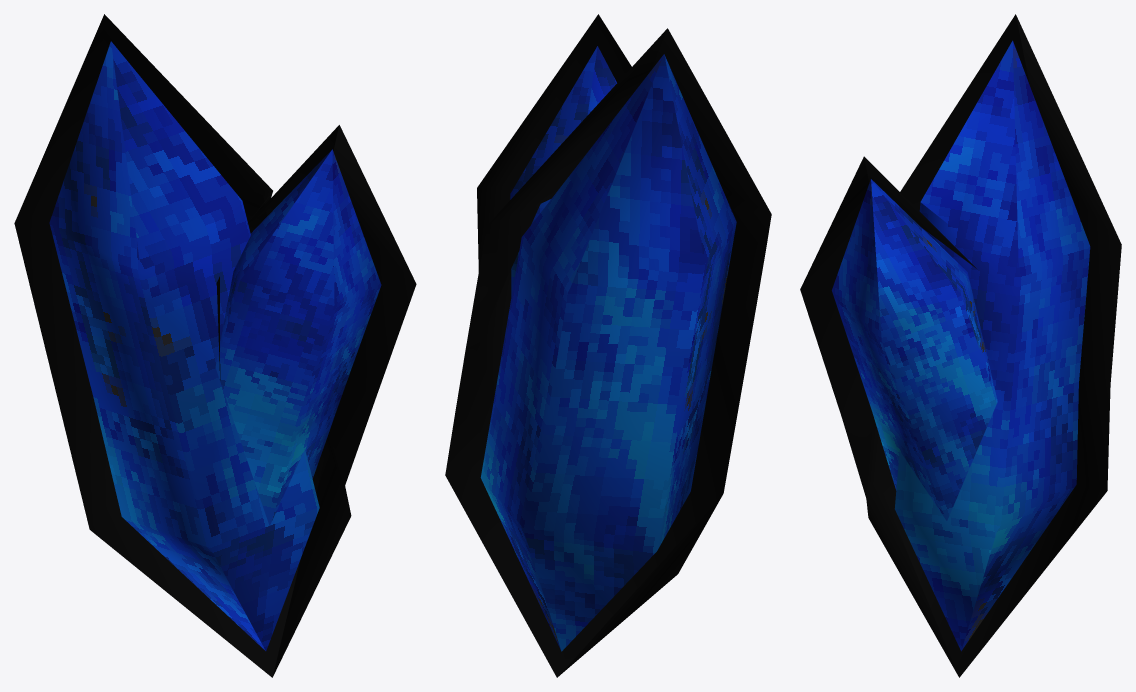
File: OUBLIETTECRYSTAL2_PU.fbx
3 renders of one model, left to right at view 1: azimuth 30°, elevation 25°; view 2: azimuth 150°, elevation 25°; view 3: azimuth 270°, elevation 25°, orthographic. The views are drawn at different scales.
Parts seen in each view (by area): view 1: OUBLIETTECRYSTAL2_PU; view 2: OUBLIETTECRYSTAL2_PU; view 3: OUBLIETTECRYSTAL2_PU.
Boxes of the visible parts, box(x1,y1,x2,y2) form: OUBLIETTECRYSTAL2_PU: box(14, 14, 416, 677); OUBLIETTECRYSTAL2_PU: box(445, 14, 771, 677); OUBLIETTECRYSTAL2_PU: box(800, 14, 1121, 677).
Size of the model in its own units: 3227 by 6841 by 3301.
1 material, 1 textured.
